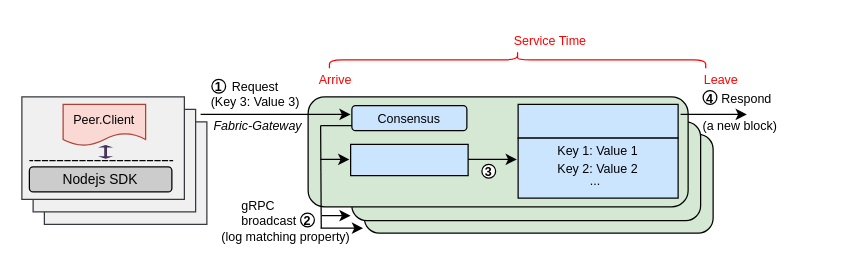
The diagram is 850 pixels wide and 276 high, and some of its shapes have lost their labels. The shapes that lost their labels are listed below. From the top down, each one's centre as x and y in pixels, then its label:
At point 597,120: "Replicated State Machine".
At point 408,159: "Replicated WAL".
